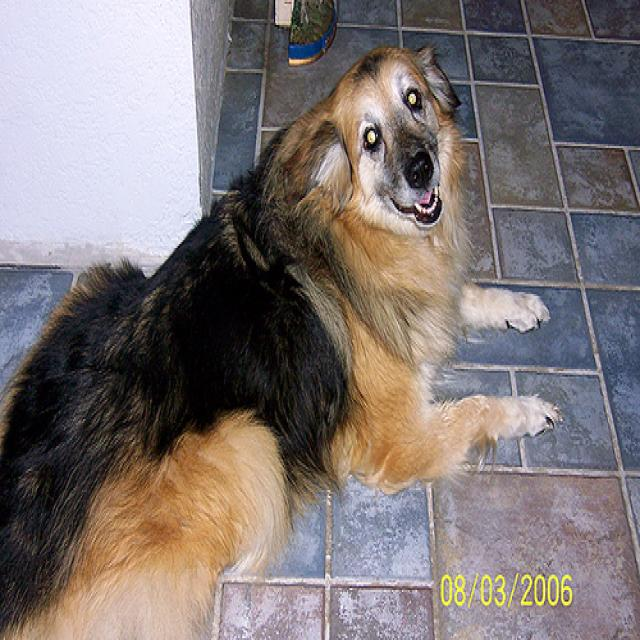dog-keeshond: (1, 31, 563, 636)
